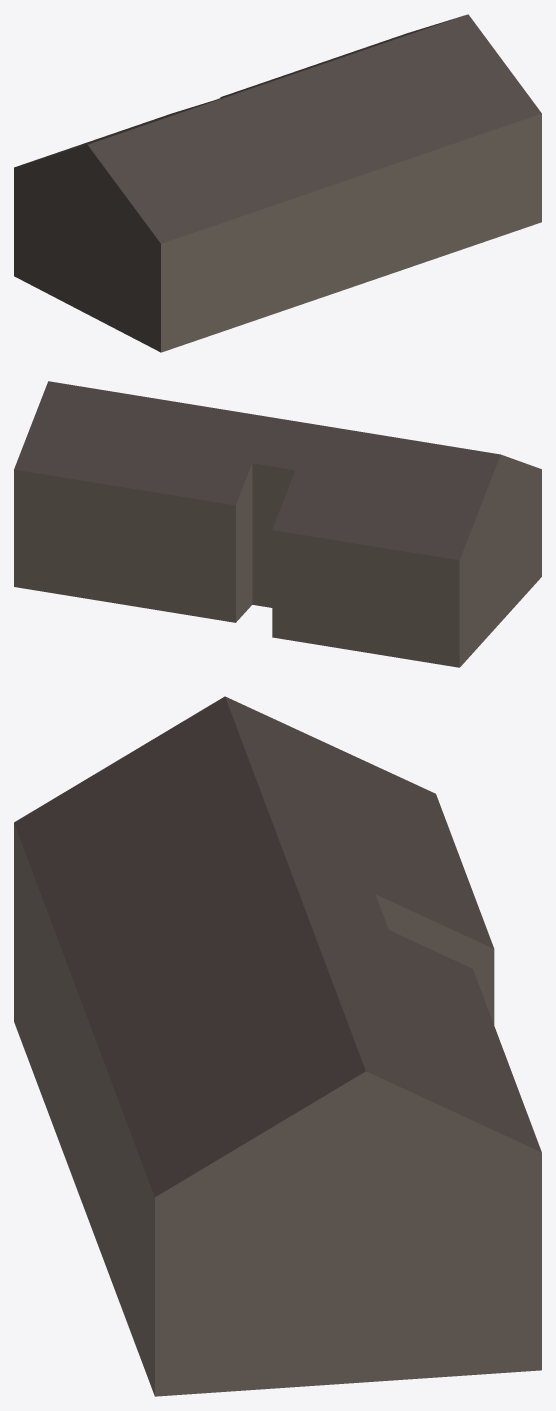
The picture shows the model from 3 angles, top to bottom: view 1: azimuth 30°, elevation 25°; view 2: azimuth 150°, elevation 25°; view 3: azimuth 270°, elevation 25°; orthographic projection. The views are drawn at different scales.
Visible parts, largest first — view 1: HP-w1376988728; view 2: HP-w1376988728; view 3: HP-w1376988728.
Part boxes in pixels (x1=…): HP-w1376988728: x1=14, y1=14, x2=541, y2=352; HP-w1376988728: x1=14, y1=381, x2=541, y2=667; HP-w1376988728: x1=14, y1=696, x2=541, y2=1396.
Size of the model in its own units: 26.07 by 9.37 by 14.41.
